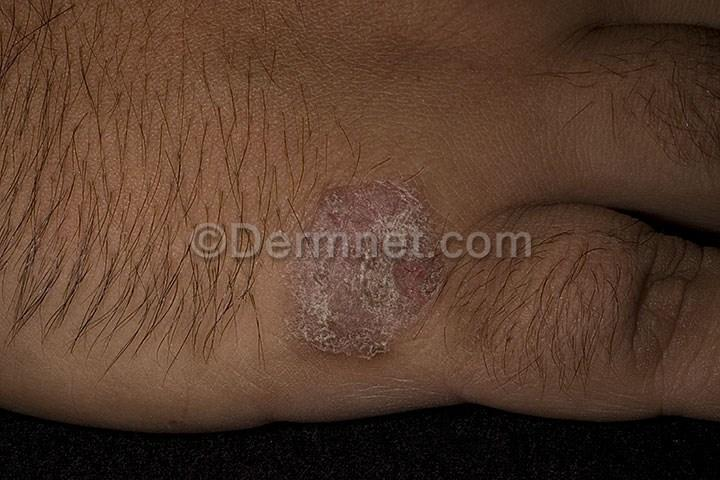Eczema: (298, 265, 412, 393), (304, 157, 440, 228), (415, 262, 461, 333)
